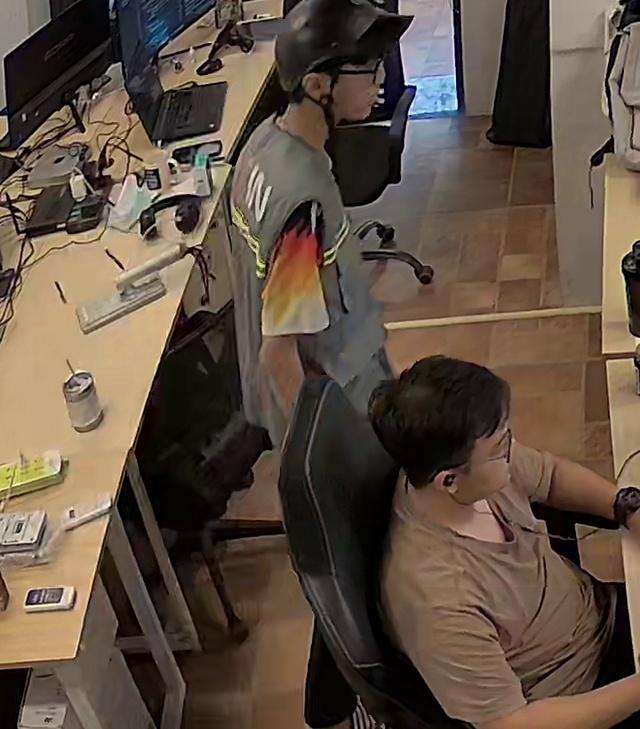helmet: (273, 1, 410, 94)
no_helmet: (370, 357, 505, 488)
none: (381, 451, 615, 723)
vest: (221, 114, 392, 451)
